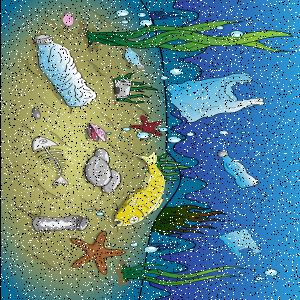Can: (33, 216, 91, 234), (114, 80, 132, 100)
Plastic-bottle: (33, 35, 99, 109), (216, 152, 260, 190), (124, 48, 146, 71)
Trash: (165, 74, 267, 125), (217, 229, 263, 260)
